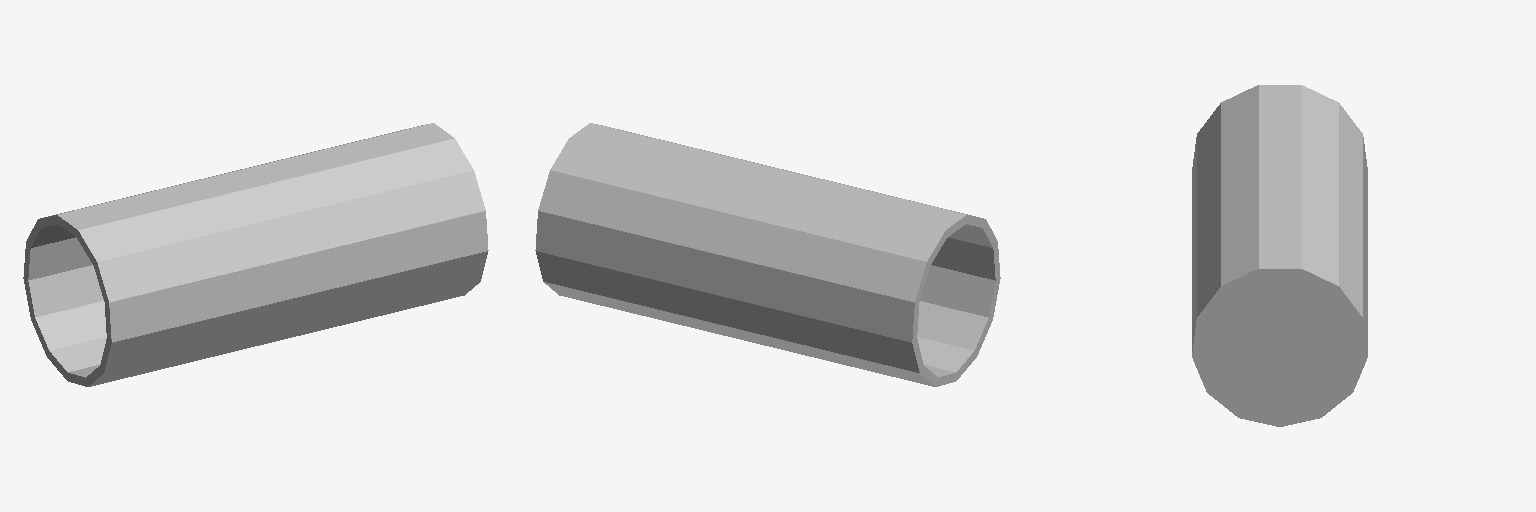
File: Right.obj
3 renders of one model, left to right at view 1: azimuth 30°, elevation 25°; view 2: azimuth 150°, elevation 25°; view 3: azimuth 270°, elevation 25°, orthographic.
Parts seen in each view (by area): view 1: Right; view 2: Right; view 3: Right.
Part boxes in pixels (x1,y1,x2,y2): Right: (23, 123, 488, 386); Right: (535, 123, 1000, 386); Right: (1192, 85, 1367, 426).
Bounding box in the file's own units: 0.0881 × 0.0355 × 0.0357.